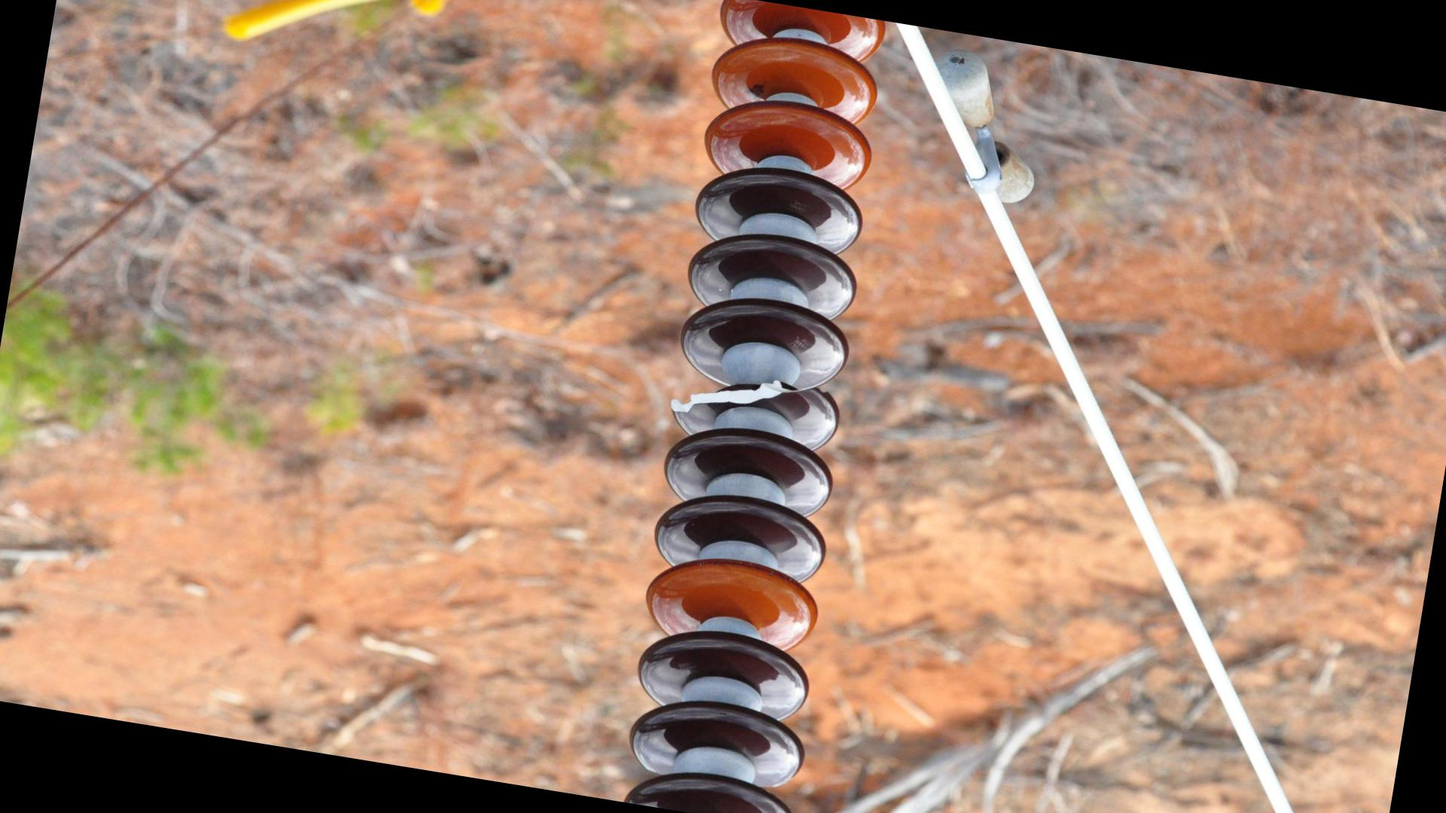damper: (910, 40, 1058, 215)
